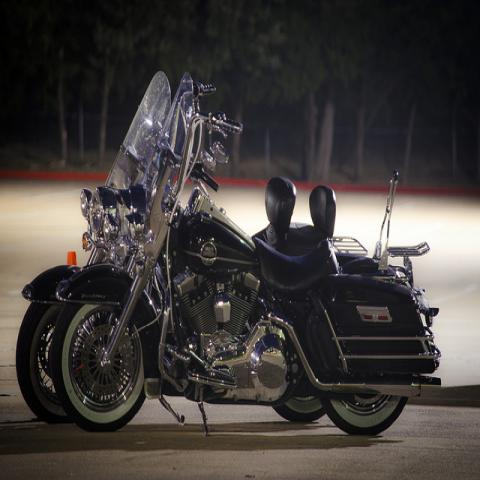motorcycle: (51, 77, 437, 442), (15, 70, 309, 424)
